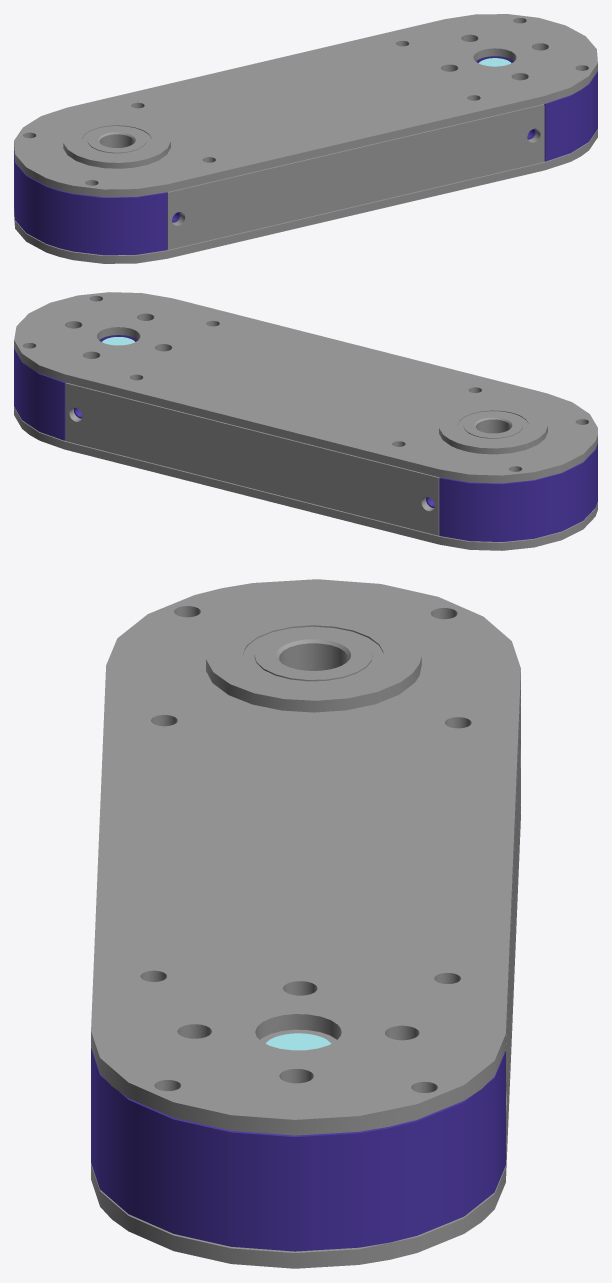
The model's file is M3_Ybar.glb.
3 views of the same model, one above another, from view 1: azimuth 30°, elevation 25°; view 2: azimuth 150°, elevation 25°; view 3: azimuth 270°, elevation 25° (orthographic). The views are drawn at different scales.
Parts seen in each view (by area): view 1: M3_Ybar; view 2: M3_Ybar; view 3: M3_Ybar.
Boxes of the visible parts, x1,y1,x2,y2 form: M3_Ybar: (14,14,597,263); M3_Ybar: (14,292,597,550); M3_Ybar: (91,579,520,1268).
Size of the model in its own units: 0.148 by 0.0215 by 0.0497.
